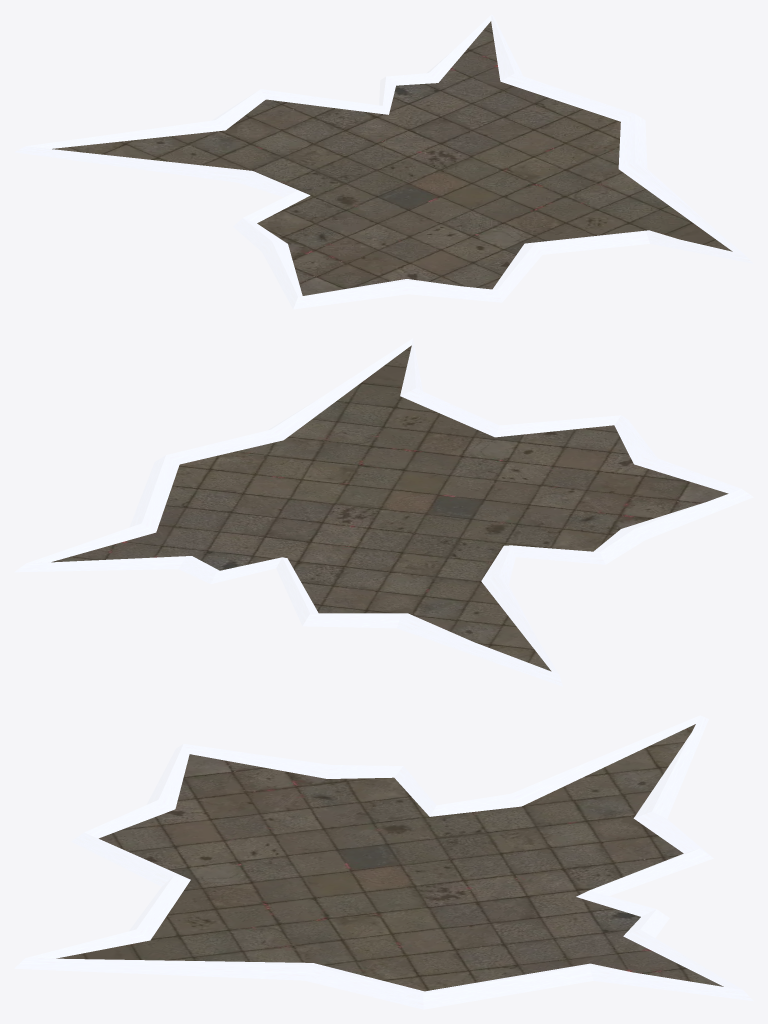
The model's file is pm-glitch-floor.glb.
3 views of the same model, one above another, from view 1: azimuth 30°, elevation 25°; view 2: azimuth 150°, elevation 25°; view 3: azimuth 270°, elevation 25° (orthographic). The views are drawn at different scales.
Visible parts, largest first — view 1: GlitchFloor_Art; view 2: GlitchFloor_Art; view 3: GlitchFloor_Art.
Part boxes in pixels (left/top/right/bottom): GlitchFloor_Art: left=14, top=14, right=753, bottom=309; GlitchFloor_Art: left=14, top=338, right=753, bottom=686; GlitchFloor_Art: left=14, top=715, right=753, bottom=1009.
Size of the model in its own units: 8.31 by 0.1409 by 9.01.
Materials: 2 (2 with a texture image).
